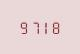eight: (51, 20, 61, 34)
nine: (18, 20, 28, 34)
one: (40, 20, 50, 34)
seven: (29, 20, 39, 34)
